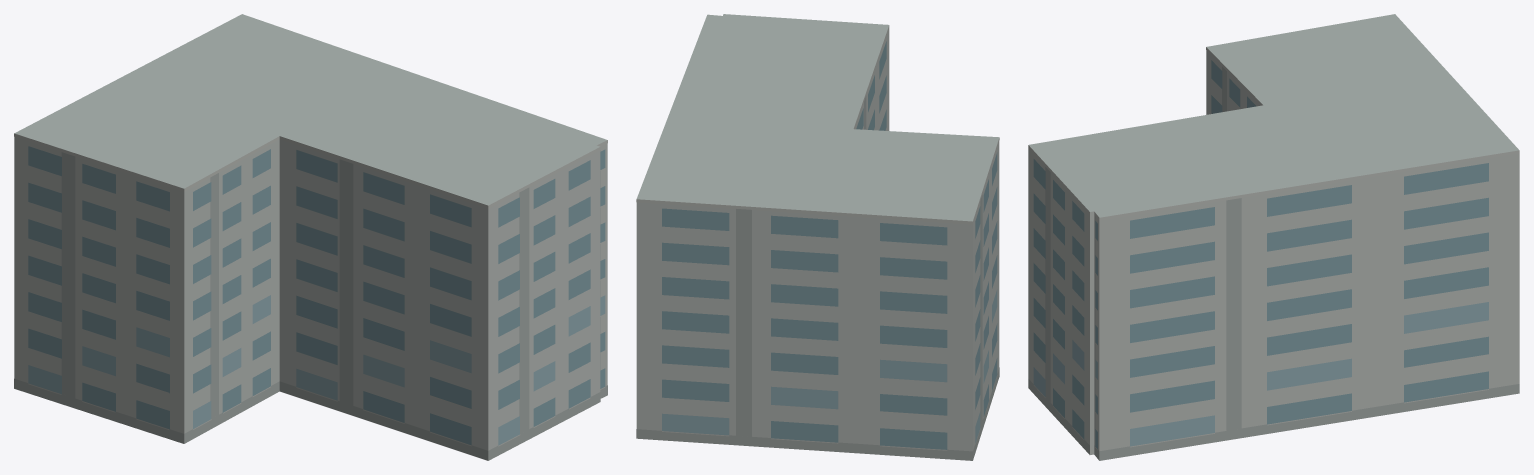
File: survey-upis-32842201.glb
3 renders of one model, left to right at view 1: azimuth 30°, elevation 25°; view 2: azimuth 150°, elevation 25°; view 3: azimuth 270°, elevation 25°, orthographic. The views are drawn at different scales.
Visible parts, largest first — view 1: survey-upis-32842201.tmp; view 2: survey-upis-32842201.tmp; view 3: survey-upis-32842201.tmp.
Part boxes in pixels (x1,y1,x2,y2): survey-upis-32842201.tmp: [14, 14, 607, 460]; survey-upis-32842201.tmp: [636, 14, 999, 460]; survey-upis-32842201.tmp: [1028, 14, 1519, 460].
Size of the model in its own units: 35.05 by 19.5 by 35.71.
